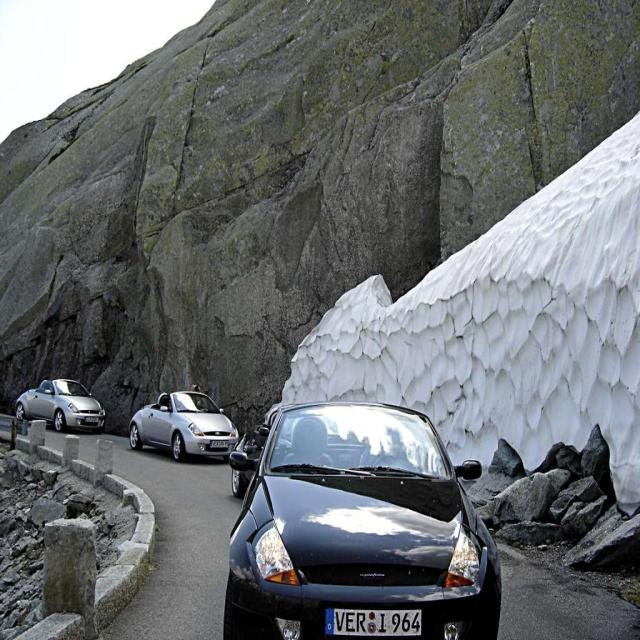car: (130, 387, 234, 462), (15, 380, 105, 429)
